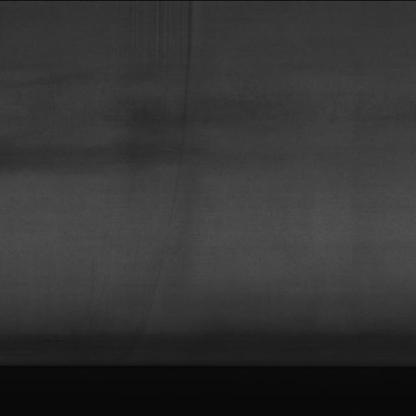crease: (168, 7, 208, 166)
